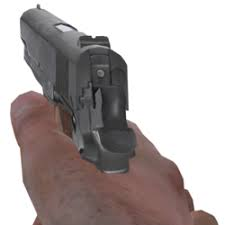gun: (7, 4, 157, 224)
